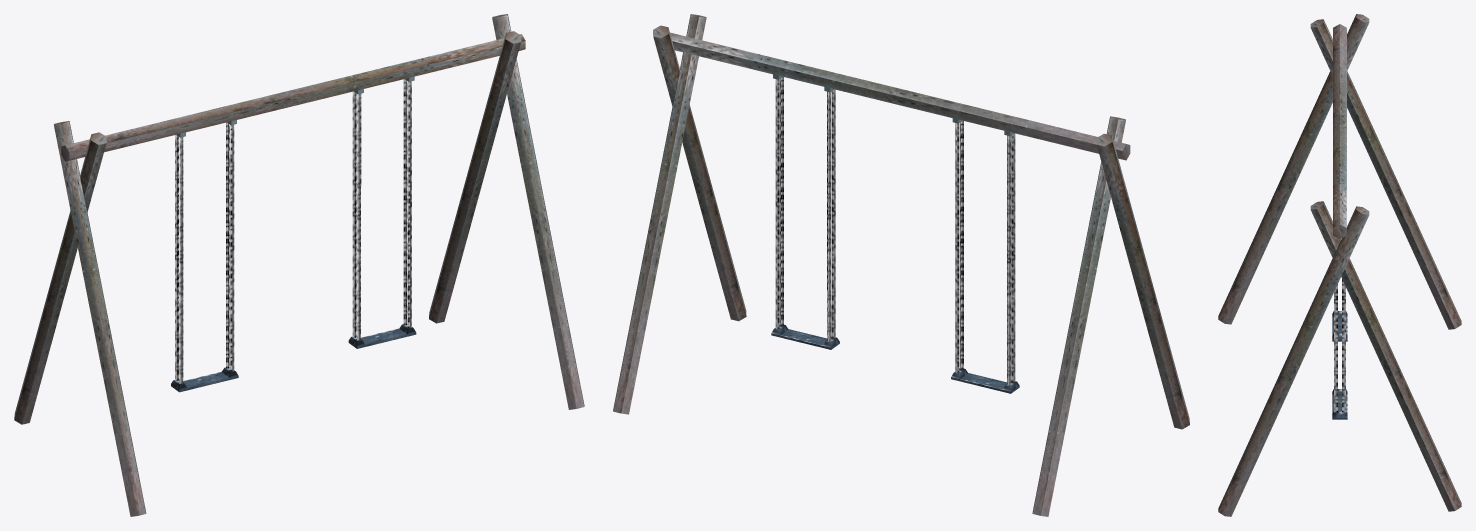
File: Swing01.obj
The picture shows the model from 3 angles, left to right: view 1: azimuth 30°, elevation 25°; view 2: azimuth 150°, elevation 25°; view 3: azimuth 270°, elevation 25°; orthographic projection. The views are drawn at different scales.
Visible parts, largest first — view 1: Swing01.Base, Swing01.SwingRht, Swing01.SwingLft; view 2: Swing01.Base, Swing01.SwingRht, Swing01.SwingLft; view 3: Swing01.Base, Swing01.SwingRht.
Boxes of the visible parts, <box> form: Swing01.Base: <box>14,14,584,516</box>; Swing01.SwingRht: <box>348,79,416,348</box>; Swing01.SwingLft: <box>171,122,238,392</box>; Swing01.Base: <box>613,14,1189,516</box>; Swing01.SwingRht: <box>771,77,839,349</box>; Swing01.SwingLft: <box>951,121,1019,393</box>; Swing01.Base: <box>1218,14,1461,516</box>; Swing01.SwingRht: <box>1332,279,1347,419</box>.
Bounding box in the file's own units: 8.67 × 6.2 × 4.45.
